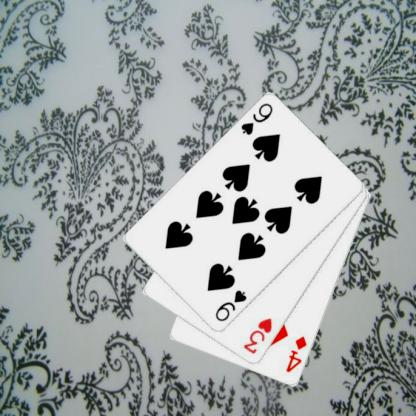3H: (240, 315, 274, 356)
4D: (283, 334, 309, 374)
9S: (212, 288, 248, 324), (238, 101, 274, 137)
